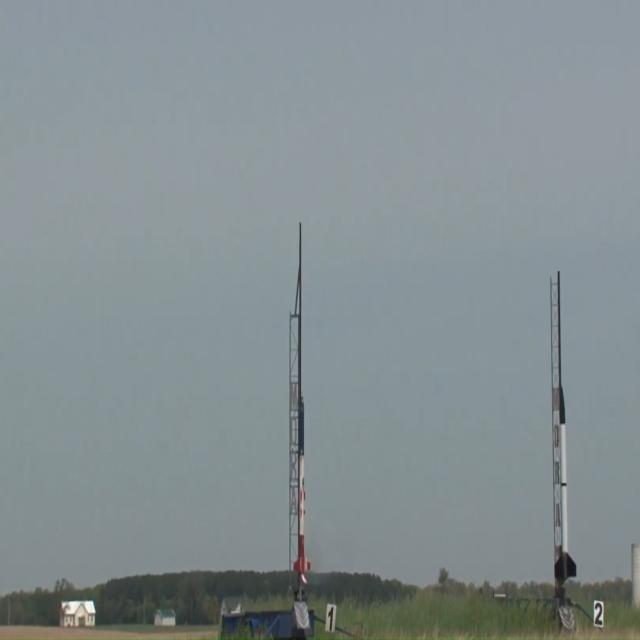Rocket: (555, 386, 578, 580), (292, 399, 312, 575)
